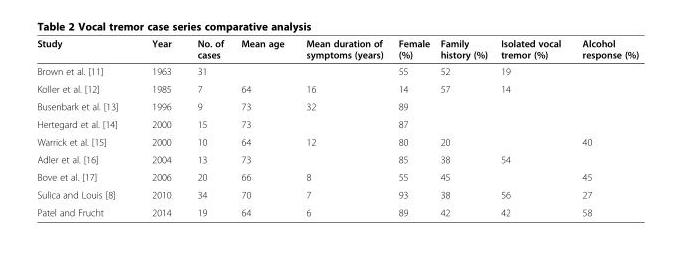table: (36, 37, 638, 217)
table column: (36, 37, 134, 217), (294, 37, 390, 217), (493, 37, 570, 217), (570, 37, 638, 217), (231, 37, 294, 217), (434, 37, 493, 217), (134, 37, 183, 217), (183, 37, 231, 217), (390, 37, 434, 217)
table column header: (36, 37, 638, 62)
table row: (36, 37, 638, 62), (36, 79, 638, 97), (36, 97, 638, 115), (36, 132, 638, 150), (36, 167, 638, 185), (36, 185, 638, 203), (36, 62, 638, 79), (36, 115, 638, 132), (36, 150, 638, 167), (36, 203, 638, 217)
